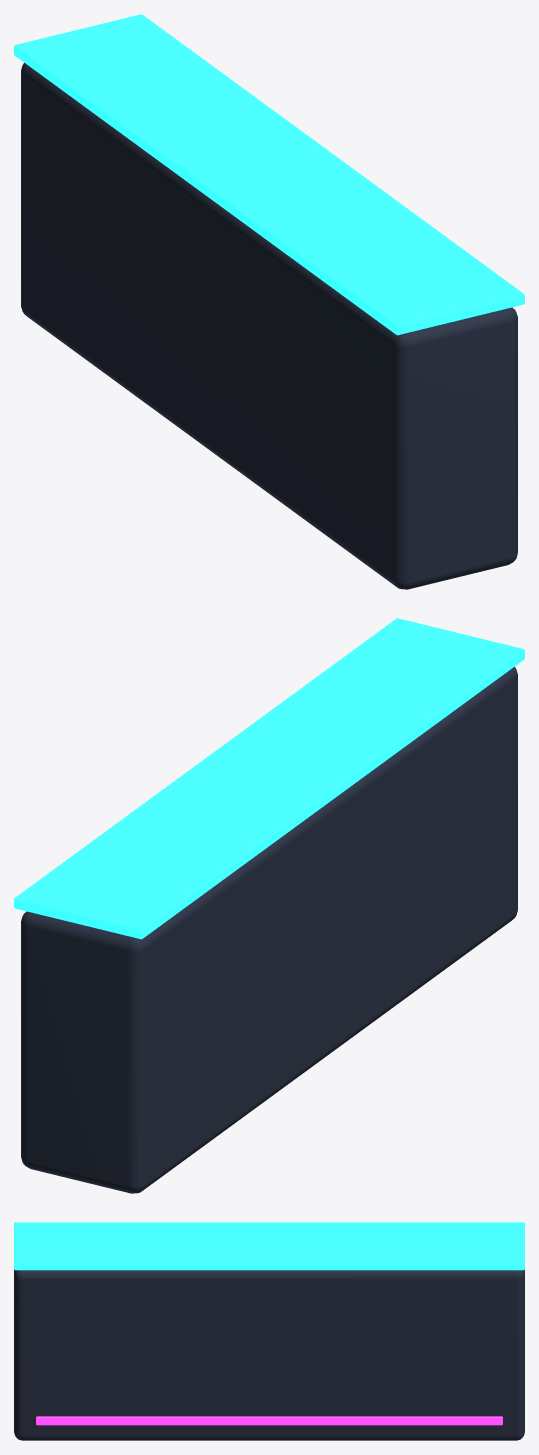
File: Module_Rail.fbx
3 views of the same model, one above another, from view 1: azimuth 30°, elevation 25°; view 2: azimuth 150°, elevation 25°; view 3: azimuth 270°, elevation 25° (orthographic). The views are drawn at different scales.
Visible parts, largest first — view 1: Rail body, Rail cyan cap; view 2: Rail body, Rail cyan cap; view 3: Rail body, Rail cyan cap, Rail lower pink.
Part boxes in pixels (x1,y1,x2,y2): Rail body: (21, 63, 517, 589); Rail cyan cap: (14, 14, 524, 335); Rail body: (21, 667, 517, 1193); Rail cyan cap: (14, 618, 524, 939); Rail body: (14, 1270, 524, 1440); Rail cyan cap: (14, 1222, 524, 1270); Rail lower pink: (36, 1416, 502, 1425).
Size of the model in its own units: 0.6925 by 1.37 by 3.5.
